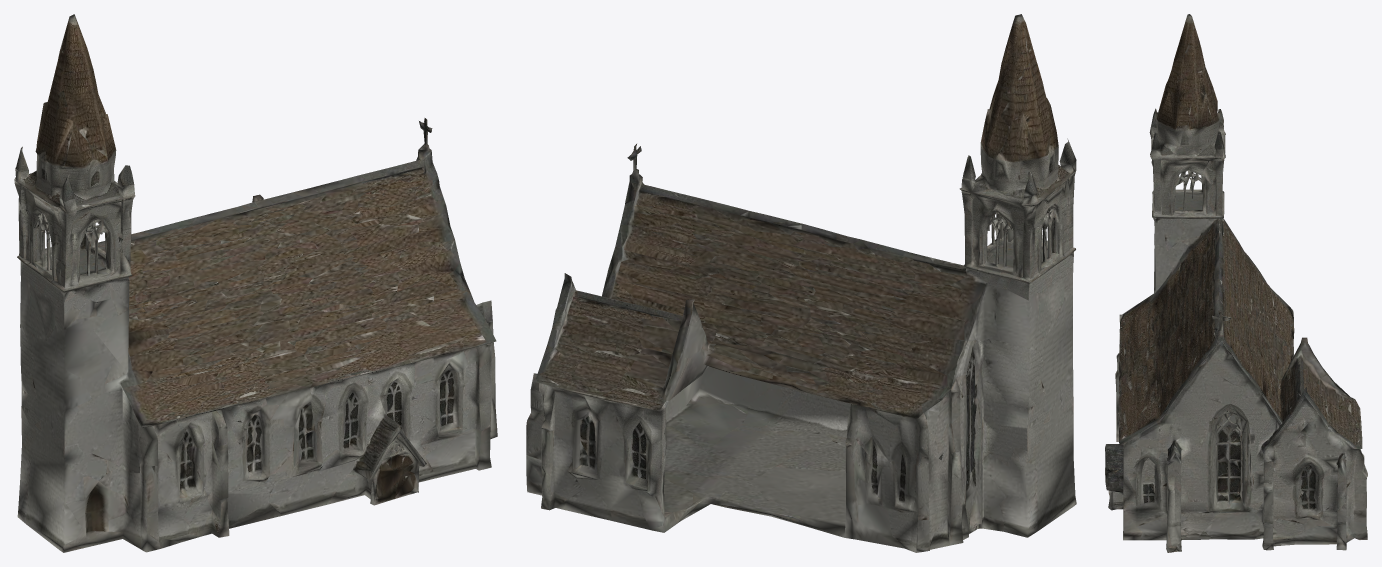
File: kirche.glb
3 renders of one model, left to right at view 1: azimuth 30°, elevation 25°; view 2: azimuth 150°, elevation 25°; view 3: azimuth 270°, elevation 25°, orthographic. The views are drawn at different scales.
Bounding box in the file's own units: 1.74 × 1.9 × 1.17.
Materials: 1 (1 with a texture image).
